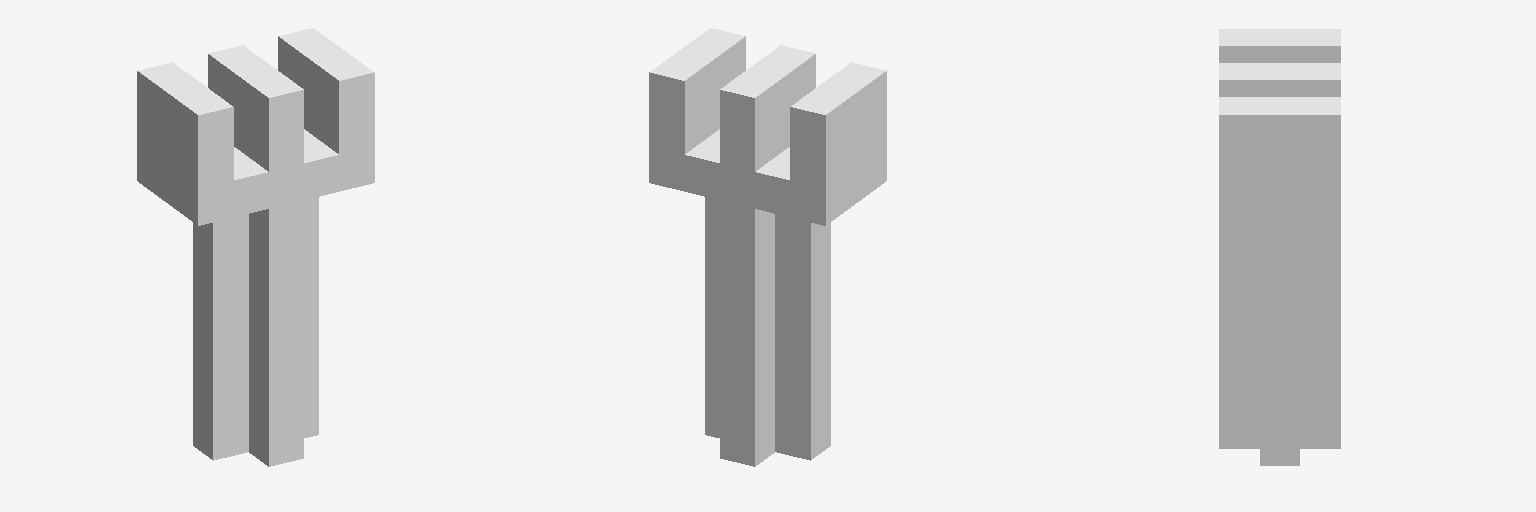
The model's file is CATAL.obj.
3 renders of one model, left to right at view 1: azimuth 30°, elevation 25°; view 2: azimuth 150°, elevation 25°; view 3: azimuth 270°, elevation 25°, orthographic.
Parts seen in each view (by area): view 1: object 1; view 2: object 1; view 3: object 1.
Part boxes in pixels (x1,y1,x2,y2): object 1: (137,28,374,466); object 1: (649,28,886,466); object 1: (1219,29,1340,465).
Size of the model in its own units: 0.5 by 1 by 0.3.